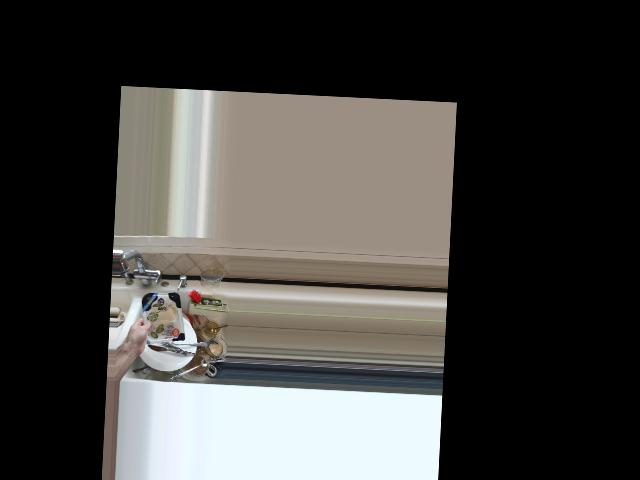cheese: (126, 286, 185, 353)
